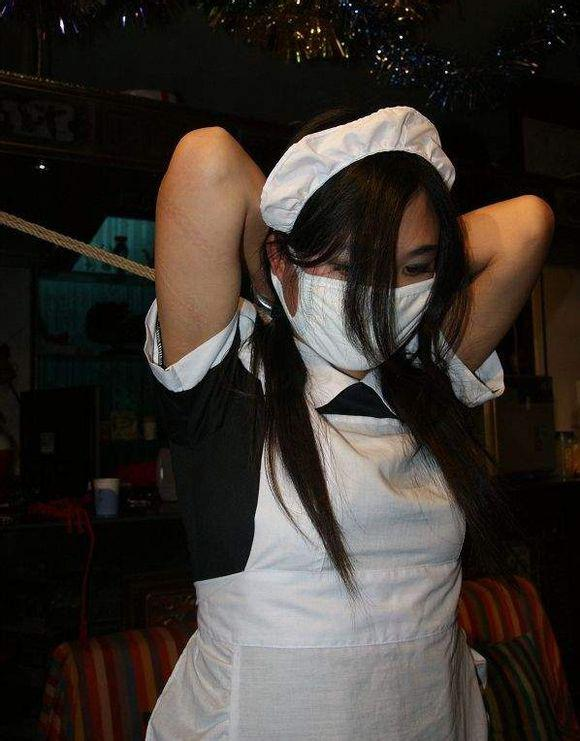OK: (299, 233, 440, 374)
